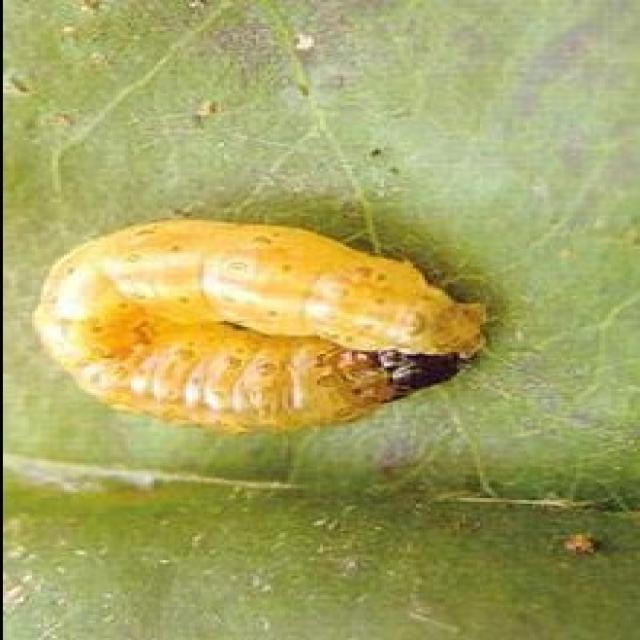peach borer: (32, 212, 494, 444)
